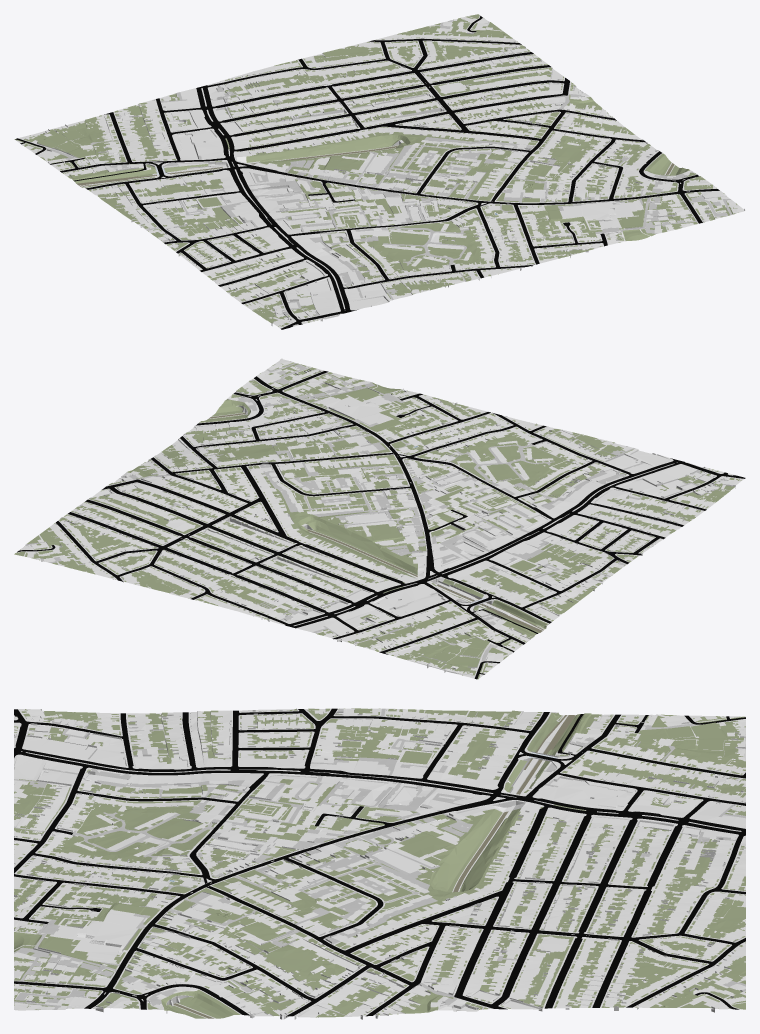
Rendered from TQ3072_Terrain_LOD_1_draco.glb.
The picture shows the model from 3 angles, top to bottom: view 1: azimuth 30°, elevation 25°; view 2: azimuth 150°, elevation 25°; view 3: azimuth 270°, elevation 25°; orthographic projection. The views are drawn at different scales.
Parts seen in each view (by area): view 1: TQ3072_Terrain; view 2: TQ3072_Terrain; view 3: TQ3072_Terrain.
Boxes of the visible parts, x1,y1,x2,y2 form: TQ3072_Terrain: (14, 14, 745, 329); TQ3072_Terrain: (14, 358, 745, 679); TQ3072_Terrain: (14, 708, 745, 1019).
Size of the model in its own units: 1000 by 34.98 by 1000.
Materials: 1 (1 with a texture image).
